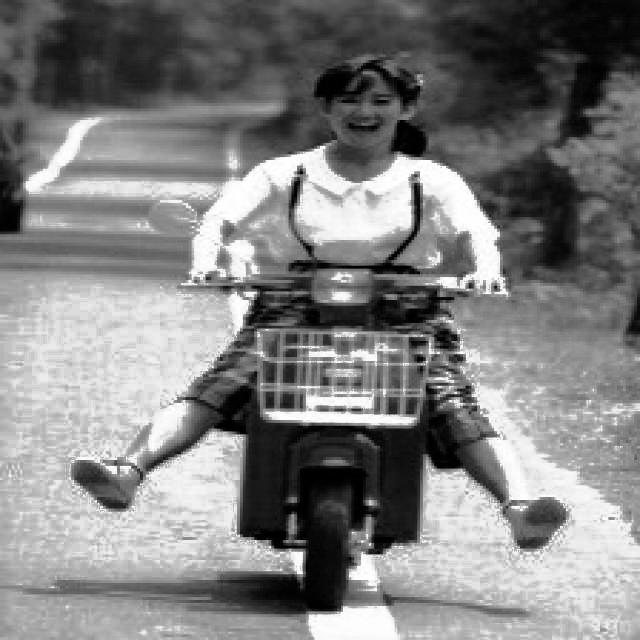Bike: (213, 257, 459, 607)
